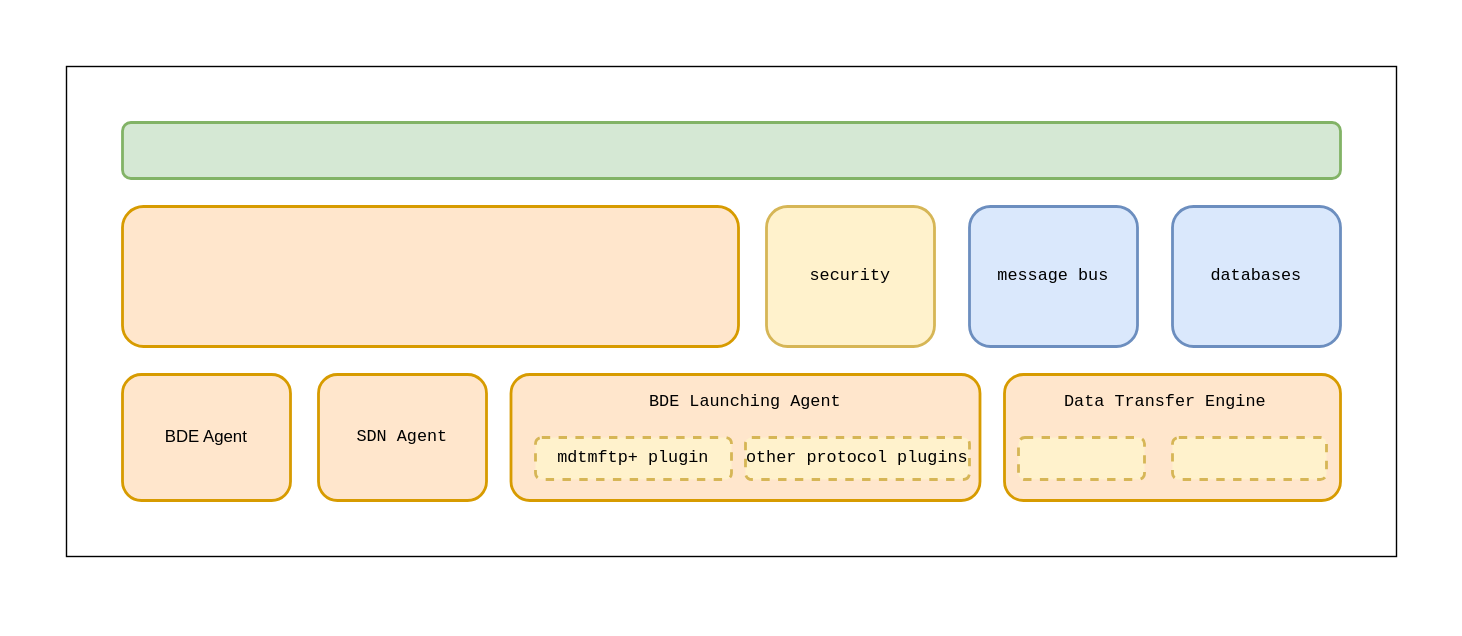
Some shapes in this 1462 by 636 pixel diagram are drawn without their labels. Here are the shapes that lost their labels. From the top down, the centre of each, then its label:
At (x=730, y=149): "web portal".
At (x=429, y=275): "BDE Server (scheduler)".
At (x=1080, y=457): "mdtmftp+".
At (x=1248, y=457): "other engines".
